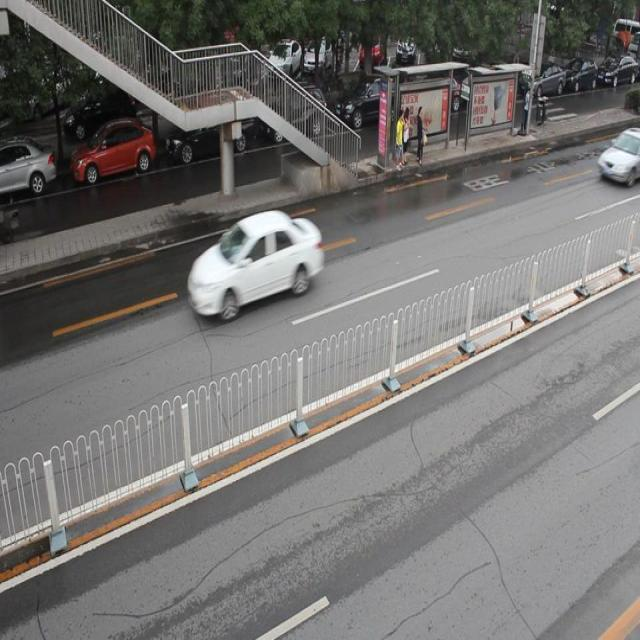car: (185, 212, 323, 320), (72, 120, 156, 184), (167, 105, 255, 160), (334, 76, 399, 130), (1, 137, 55, 200), (261, 90, 326, 142), (596, 125, 640, 185)
